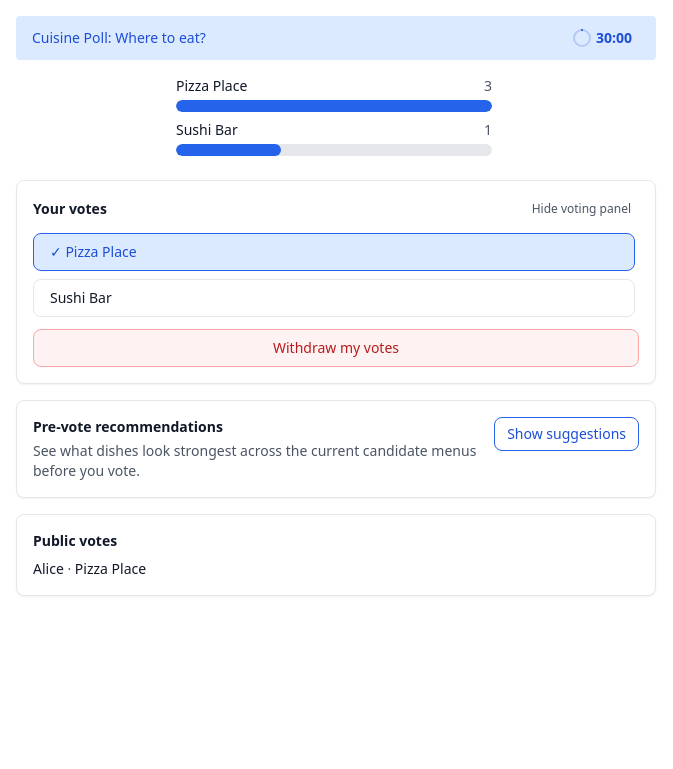
PollActiveView › loads pre-vote recommendations with menu context and renders the result card
Click the button "Show suggestions".
click(567, 434)  # box [494,417,639,451]
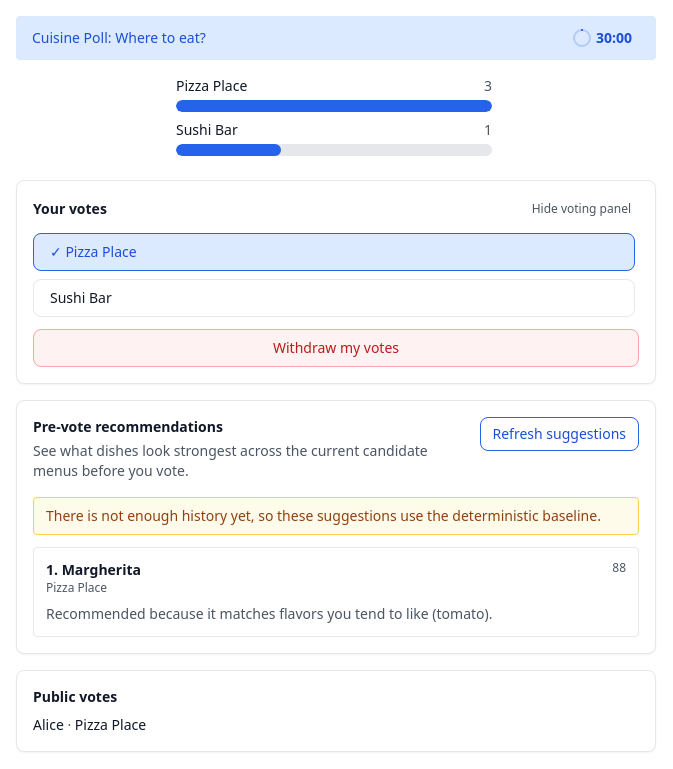
Expected: the heading "Pre-vote recommendations" is shown, [33,417,223,436]
Result: the text "1. Margherita" is shown at [46,560,141,580]
Result: the text "not enough history yet" is shown at [46,506,601,525]
